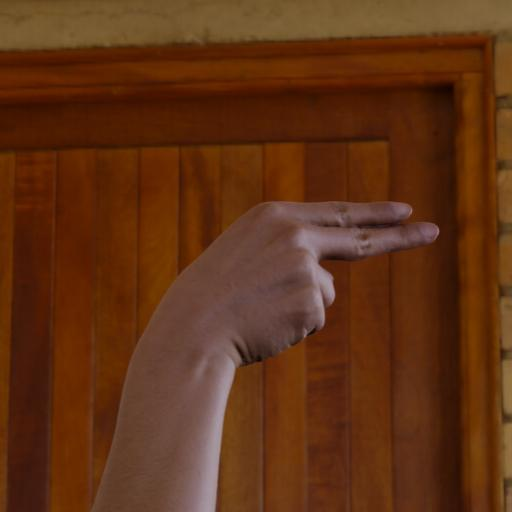H: (122, 174, 456, 376)
